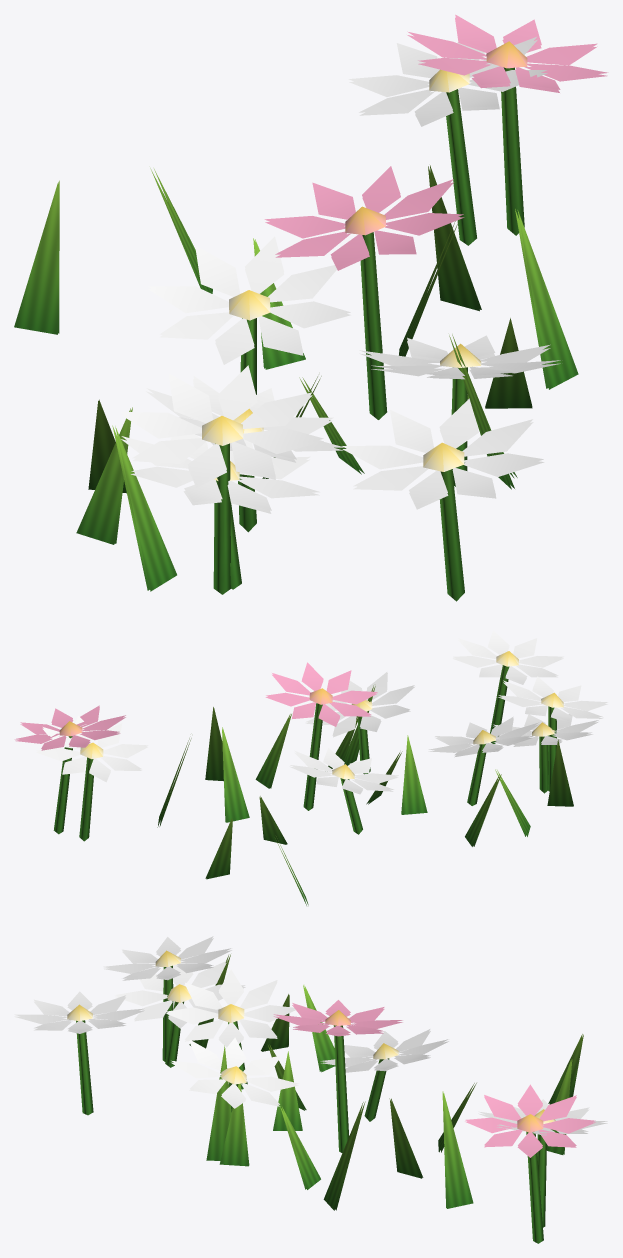
The model's file is Kit_FlowerPatch.obj.
3 renders of one model, top to bottom at view 1: azimuth 30°, elevation 25°; view 2: azimuth 150°, elevation 25°; view 3: azimuth 270°, elevation 25°, orthographic. The views are drawn at different scales.
Parts seen in each view (by area): view 1: Kit_FlowerPatch; view 2: Kit_FlowerPatch; view 3: Kit_FlowerPatch.
Part boxes in pixels (left/top/right/bottom): Kit_FlowerPatch: left=14, top=14, right=608, bottom=601; Kit_FlowerPatch: left=14, top=630, right=607, bottom=905; Kit_FlowerPatch: left=14, top=936, right=607, bottom=1243.
Bounding box in the file's own units: 5.14 × 1.46 × 5.6.
1 material, 1 textured.
